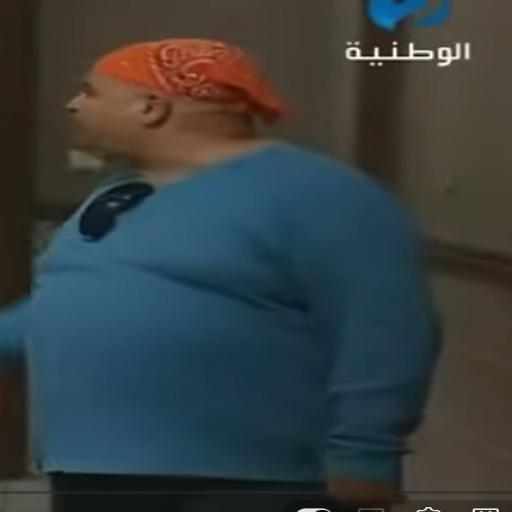sboui: (67, 39, 287, 166)
